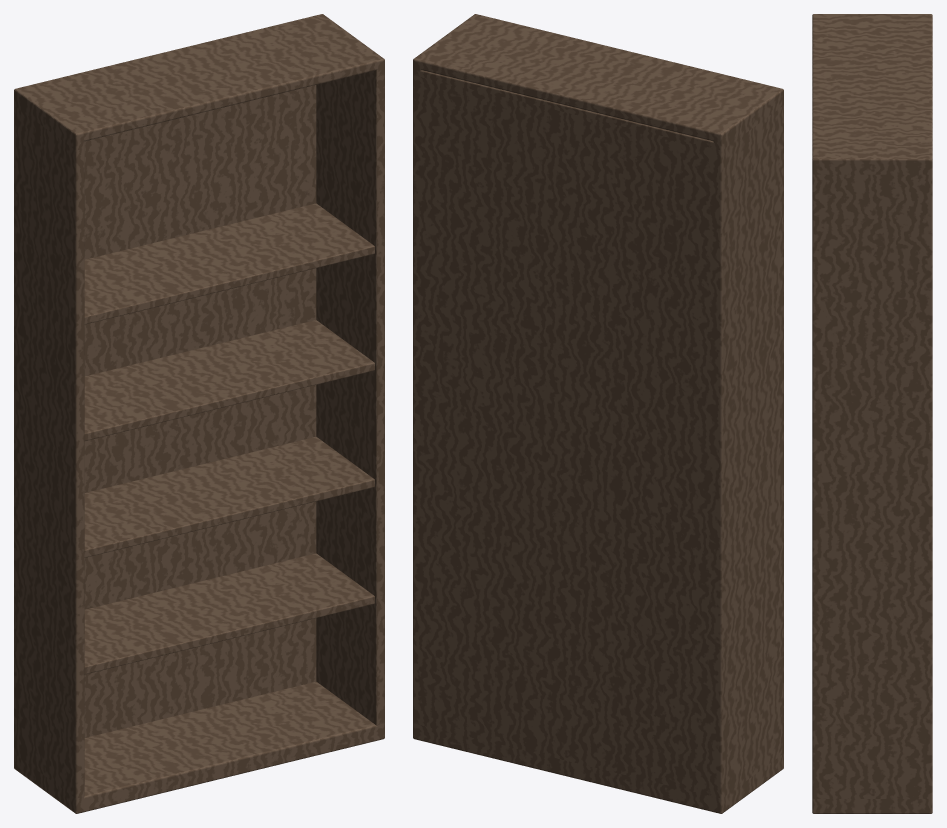
File: FUR_Bookcase.fbx
The picture shows the model from 3 angles, left to right: view 1: azimuth 30°, elevation 25°; view 2: azimuth 150°, elevation 25°; view 3: azimuth 270°, elevation 25°; orthographic projection. The views are drawn at different scales.
Parts seen in each view (by area): view 1: Bookcase_Body; view 2: Bookcase_Body; view 3: Bookcase_Body.
Part boxes in pixels (x1,y1,x2,y2): Bookcase_Body: (14, 14, 384, 813); Bookcase_Body: (413, 14, 783, 813); Bookcase_Body: (812, 14, 932, 813).
Bounding box in the file's own units: 100 × 210 × 35.
